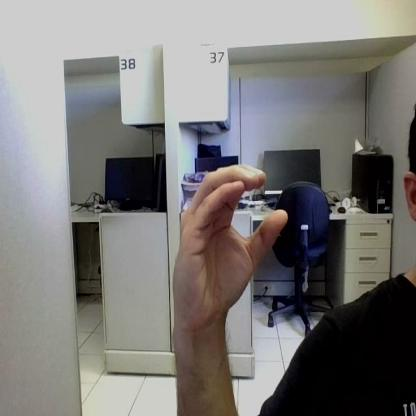C: (174, 165, 286, 305)
